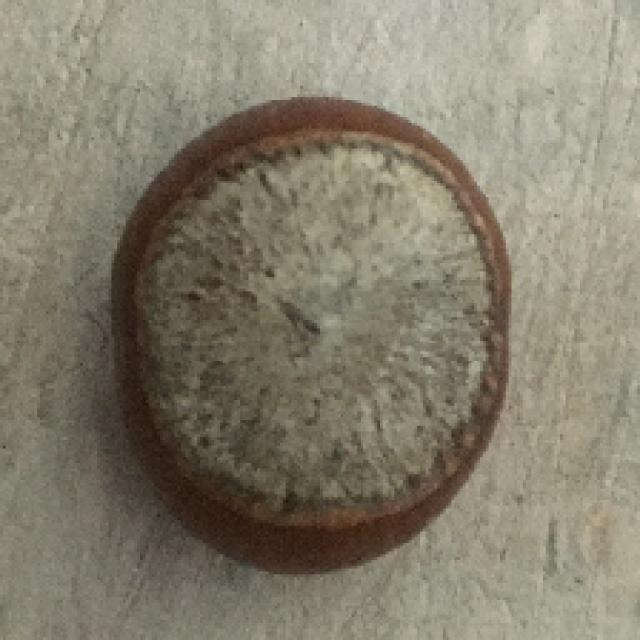qualityHazelnut: (97, 87, 518, 572)
